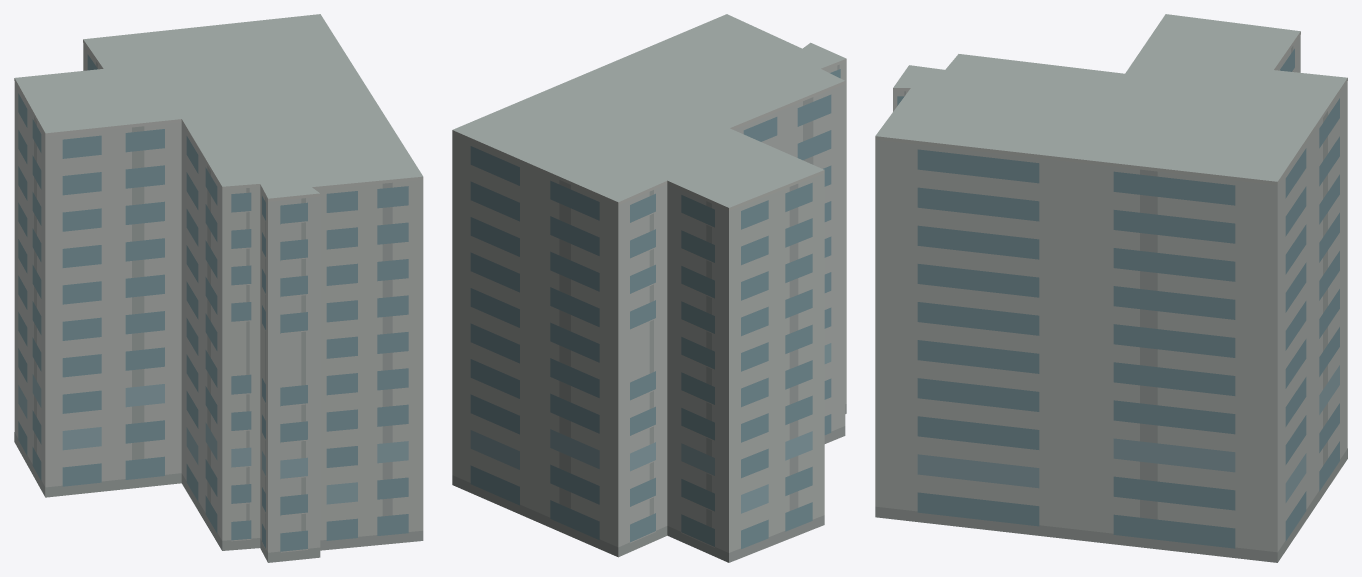
Rendered from survey-upis-32875354.glb.
3 renders of one model, left to right at view 1: azimuth 30°, elevation 25°; view 2: azimuth 150°, elevation 25°; view 3: azimuth 270°, elevation 25°, orthographic. The views are drawn at different scales.
Parts seen in each view (by area): view 1: survey-upis-32875354.tmp; view 2: survey-upis-32875354.tmp; view 3: survey-upis-32875354.tmp.
Boxes of the visible parts, x1,y1,x2,y2 form: survey-upis-32875354.tmp: (14, 14, 423, 562); survey-upis-32875354.tmp: (452, 14, 846, 562); survey-upis-32875354.tmp: (875, 14, 1347, 562).
Size of the model in its own units: 25.88 by 27.4 by 30.8.
